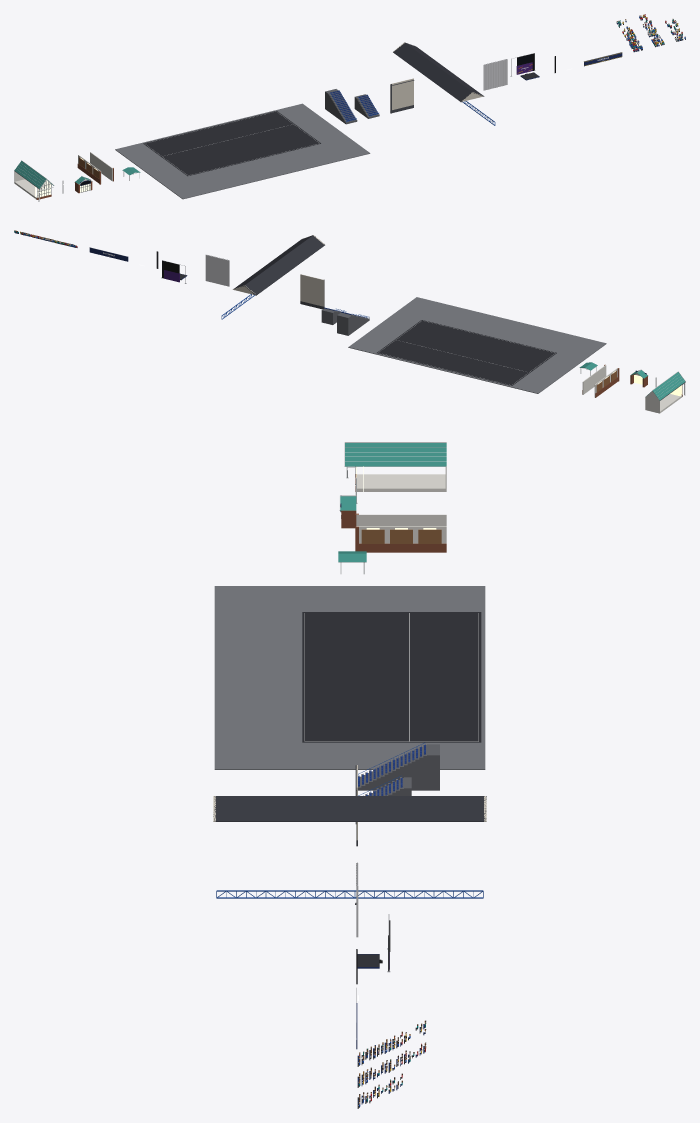
Rendered from NationalsArena_07.glb.
The picture shows the model from 3 angles, top to bottom: view 1: azimuth 30°, elevation 25°; view 2: azimuth 150°, elevation 25°; view 3: azimuth 270°, elevation 25°; orthographic projection. The views are drawn at different scales.
Visible parts, largest first — view 1: NatFloor_Concrete, NatFloor_Rubber, NatRoofBay_Plates, NatDrape_Cloth, NatWall_Wall, NatStandMain_Steps, NatBay_Roof, NatStandEnd_Steps, NatEndRight_Wall; view 2: NatFloor_Concrete, NatFloor_Rubber, NatRoofBay_Plates, NatWall_Wall, NatDrape_Cloth, NatStandMain_Steps, NatBay_Walls, NatBay_Roof, NatEndRight_Wall; view 3: NatFloor_Concrete, NatFloor_Rubber, NatRoofBay_Plates, NatBay_Roof, NatStandMain_Steps, NatBay_Walls, NatTruss_Steel, NatEndLeft_Wall, NatEndRight_Wood.
Part boxes in pixels (x1=…): NatFloor_Concrete: x1=115, y1=103, x2=370, y2=199; NatFloor_Rubber: x1=143, y1=111, x2=320, y2=176; NatRoofBay_Plates: x1=393, y1=42, x2=484, y2=102; NatDrape_Cloth: x1=483, y1=59, x2=507, y2=90; NatWall_Wall: x1=390, y1=78, x2=413, y2=110; NatStandMain_Steps: x1=325, y1=89, x2=357, y2=124; NatBay_Roof: x1=14, y1=161, x2=53, y2=188; NatStandEnd_Steps: x1=354, y1=94, x2=379, y2=118; NatEndRight_Wall: x1=90, y1=152, x2=112, y2=181; NatFloor_Concrete: x1=348, y1=297, x2=606, y2=393; NatFloor_Rubber: x1=377, y1=320, x2=556, y2=385; NatRoofBay_Plates: x1=234, y1=235, x2=324, y2=295; NatWall_Wall: x1=300, y1=274, x2=324, y2=306; NatDrape_Cloth: x1=205, y1=255, x2=229, y2=286; NatStandMain_Steps: x1=337, y1=312, x2=369, y2=335; NatBay_Walls: x1=645, y1=391, x2=682, y2=413; NatBay_Roof: x1=647, y1=372, x2=685, y2=400; NatEndRight_Wall: x1=582, y1=365, x2=606, y2=394; NatFloor_Concrete: x1=214, y1=586, x2=485, y2=769; NatFloor_Rubber: x1=302, y1=612, x2=481, y2=742; NatRoofBay_Plates: x1=213, y1=796, x2=486, y2=821; NatBay_Roof: x1=345, y1=443, x2=446, y2=466; NatStandMain_Steps: x1=358, y1=744, x2=439, y2=790; NatBay_Walls: x1=357, y1=466, x2=446, y2=491; NatTruss_Steel: x1=216, y1=890, x2=483, y2=898; NatEndLeft_Wall: x1=356, y1=514, x2=446, y2=525; NatEndRight_Wood: x1=361, y1=529, x2=441, y2=543.
Size of the model in its own units: 1165 by 68.4 by 212.
